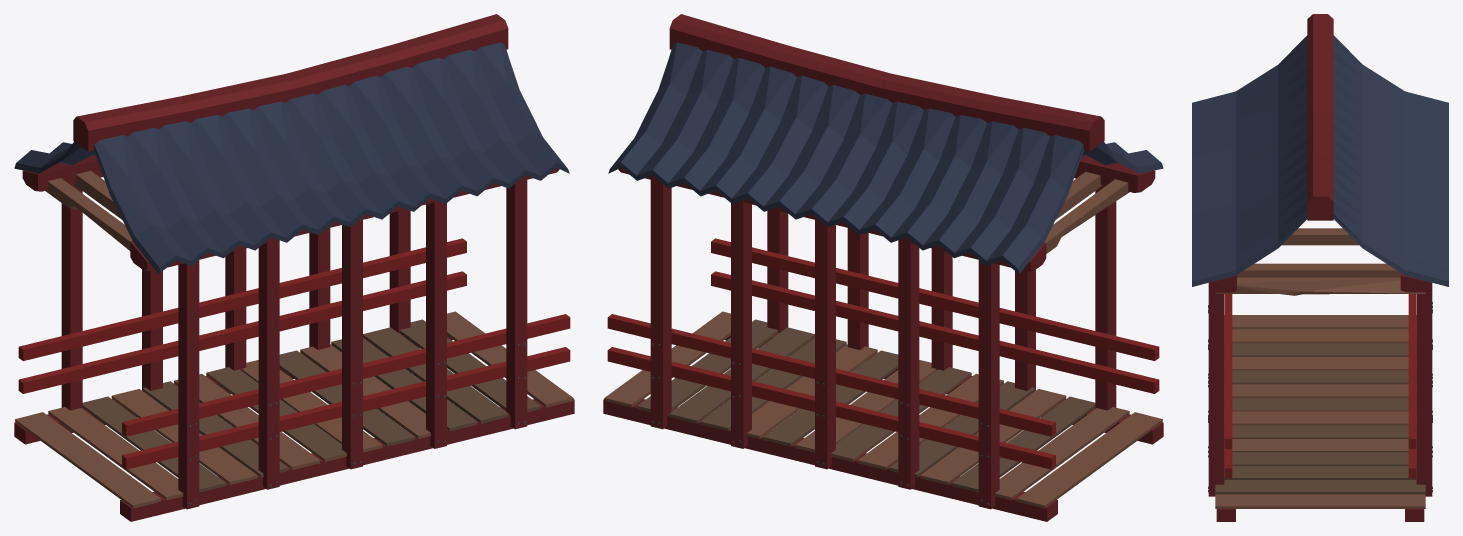
The model's file is Bridge_1_4 Asia.fbx.
3 renders of one model, left to right at view 1: azimuth 30°, elevation 25°; view 2: azimuth 150°, elevation 25°; view 3: azimuth 270°, elevation 25°, orthographic. The views are drawn at different scales.
Visible parts, largest first — view 1: Bridge_1_4; view 2: Bridge_1_4; view 3: Bridge_1_4.
Part boxes in pixels (x1=…): Bridge_1_4: x1=14, y1=14, x2=574, y2=521; Bridge_1_4: x1=603, y1=14, x2=1163, y2=521; Bridge_1_4: x1=1192, y1=14, x2=1448, y2=521.
Size of the model in its own units: 4.1 by 3.16 by 2.31.
